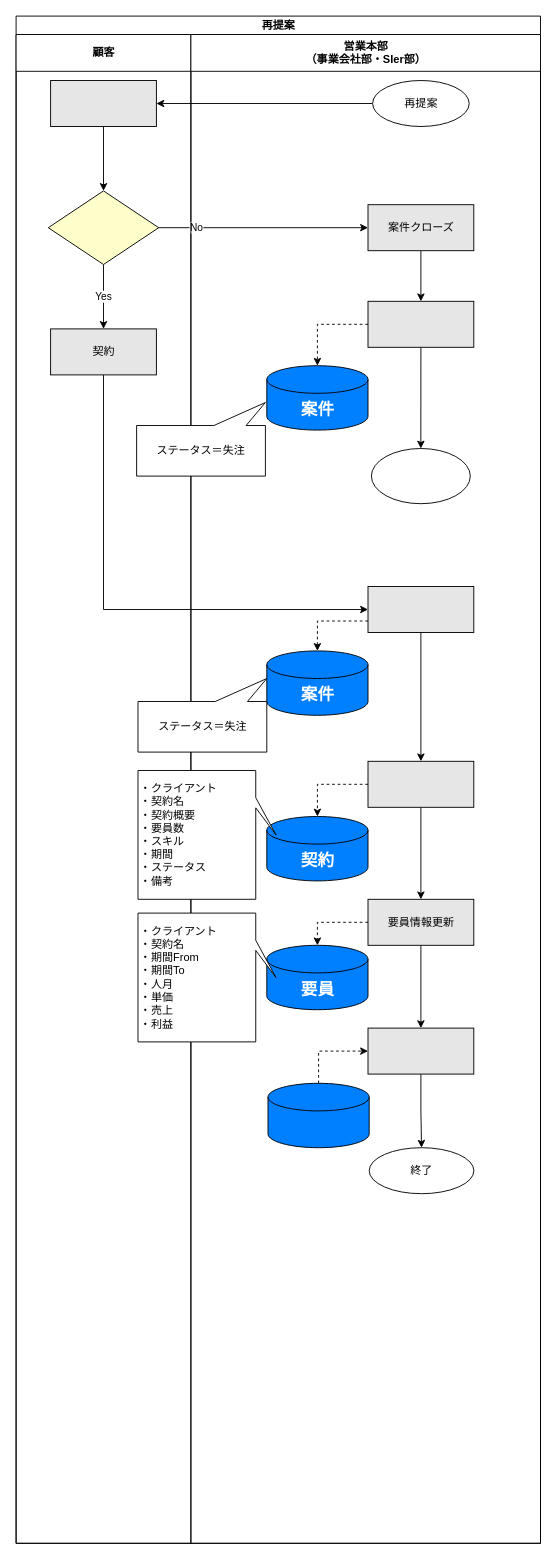
Some shapes in this 557 by 1559 pixel diagram are drawn without their labels. Here are the shapes that lost their labels. From the top down, the centre of each, then its label:
the point at 103,103: 再提案対応
the point at 103,227: 再提案 受け入れ
the point at 420,323: 案件・契約情報更新
the point at 420,476: 失注
the point at 420,609: 案件情報更新
the point at 420,783: 契約情報追加
the point at 420,1050: システム部へ報告
the point at 318,1115: メール
